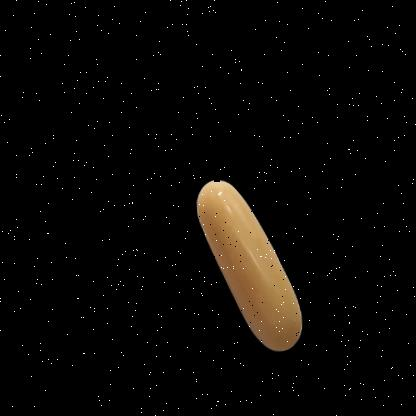t-muse: (179, 163, 312, 363)
